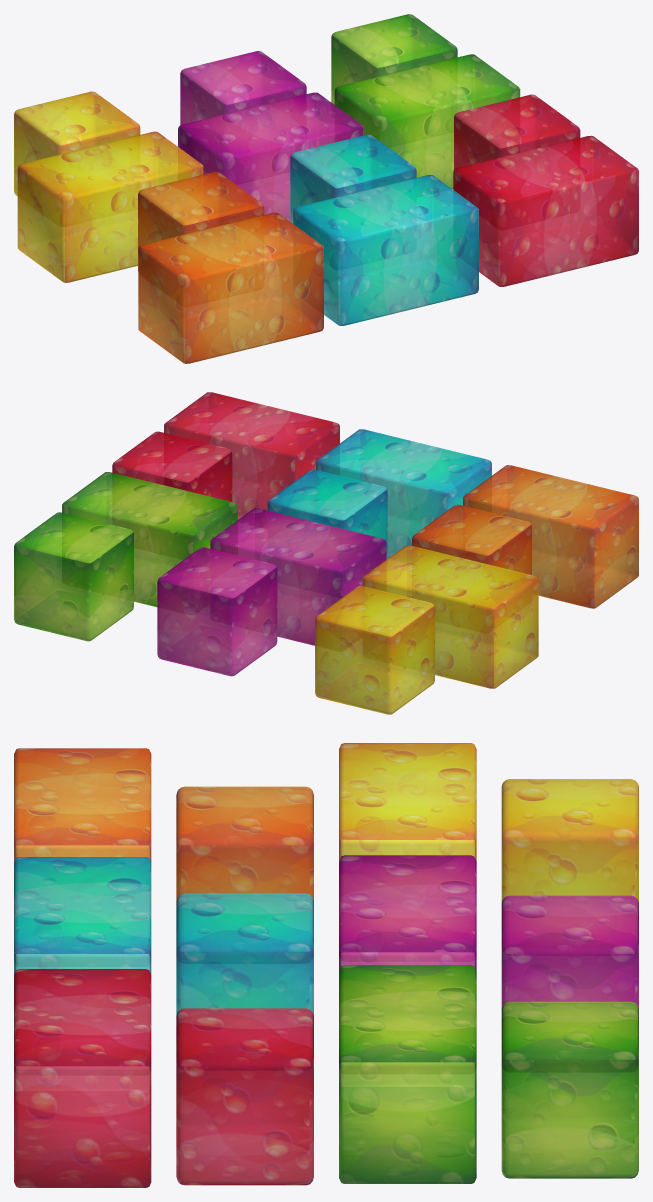
File: Color Tower_Block thuong.fbx
3 renders of one model, top to bottom at view 1: azimuth 30°, elevation 25°; view 2: azimuth 150°, elevation 25°; view 3: azimuth 270°, elevation 25°, orthographic. The views are drawn at different scales.
Visible parts, largest first — view 1: block.006, block.001, block.004, block, block.007, block.008, block.011, block.009, block.003, block.005, block.010, block.002; view 2: block.006, block, block.010, block.009, block.011, block.008, block.001, block.007, block.004, block.003, block.002, block.005; view 3: block.001, block.007, block.002, block.009, block.011, block.003, block, block.004, block.008, block.006, block.005, block.010.
Part boxes in pixels (bbox=[...]): block.006: bbox=[138, 212, 323, 363]; block.001: bbox=[453, 135, 638, 286]; block.004: bbox=[293, 175, 478, 325]; block: bbox=[17, 131, 203, 282]; block.007: bbox=[334, 54, 520, 188]; block.008: bbox=[178, 92, 363, 221]; block.011: bbox=[14, 91, 140, 196]; block.009: bbox=[331, 14, 457, 104]; block.003: bbox=[290, 134, 416, 223]; block.005: bbox=[138, 171, 264, 271]; block.010: bbox=[180, 51, 306, 125]; block.002: bbox=[454, 94, 580, 169]; block.006: bbox=[463, 465, 638, 608]; block: bbox=[362, 545, 538, 688]; block.010: bbox=[157, 547, 277, 676]; block.009: bbox=[14, 512, 133, 641]; block.011: bbox=[315, 585, 434, 714]; block.008: bbox=[210, 508, 386, 645]; block.001: bbox=[164, 392, 339, 519]; block.007: bbox=[62, 472, 237, 607]; block.004: bbox=[315, 429, 491, 558]; block.003: bbox=[267, 469, 387, 559]; block.002: bbox=[112, 431, 232, 501]; block.005: bbox=[412, 504, 531, 574]; block.001: bbox=[14, 969, 151, 1187]; block.007: bbox=[339, 965, 476, 1183]; block.002: bbox=[176, 1008, 313, 1185]; block.009: bbox=[501, 1001, 638, 1178]; block.011: bbox=[501, 779, 638, 902]; block.003: bbox=[176, 893, 313, 1015]; block: bbox=[339, 743, 476, 861]; block.004: bbox=[14, 857, 151, 974]; block.008: bbox=[339, 855, 476, 970]; block.006: bbox=[14, 748, 151, 862]; block.005: bbox=[176, 786, 313, 901]; block.010: bbox=[501, 895, 638, 1008].
Bounding box in the file's own units: 11.2 × 9.09 × 2.02.
1 material, 1 textured.
